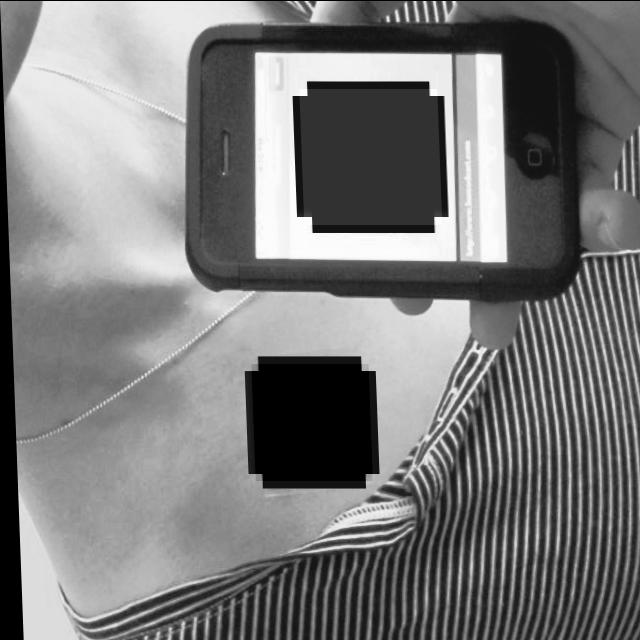qr_code: (299, 88, 441, 224), (249, 363, 369, 480)
